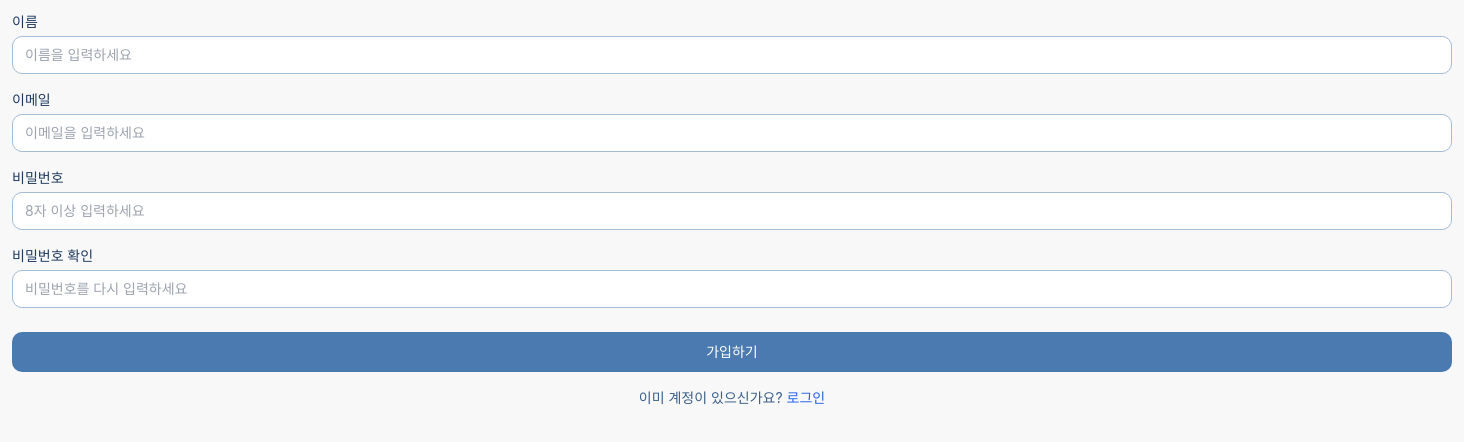
Test: SignupForm › 유효성 검증 › 비밀번호와 확인 비밀번호가 다를 경우 오류 메시지를 표시한다
The image size is (1464, 442).
Type "홍길동" into the field labelled "이름" at (732, 55), box [12, 36, 1452, 74]
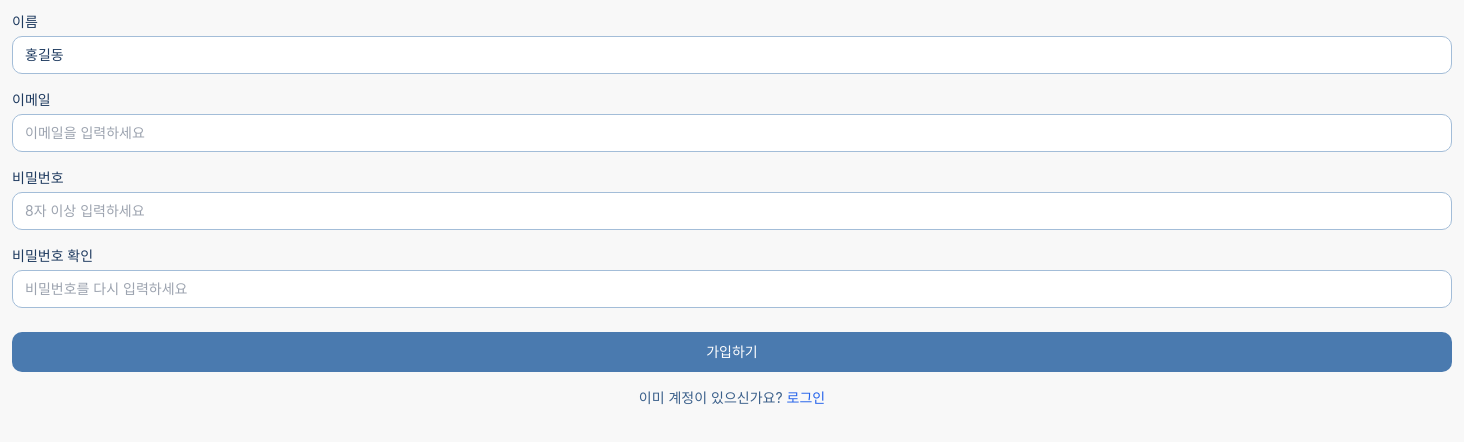
Type "test@test.com" into the field labelled "이메일" at (732, 133), box [12, 114, 1452, 152]
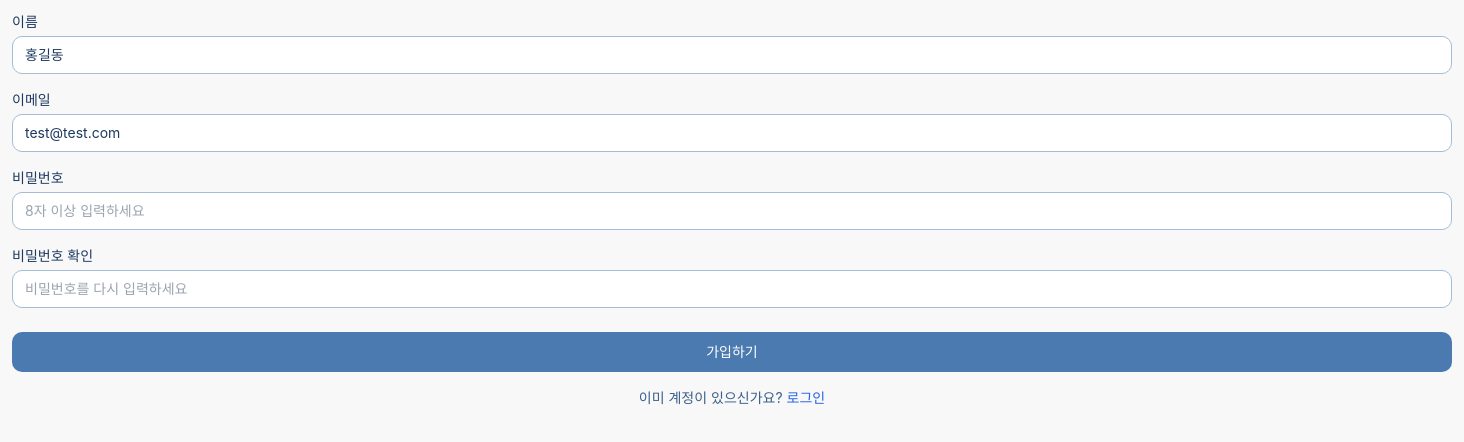
Type "password123" into the password field labelled "비밀번호" at (732, 211), box [12, 192, 1452, 230]
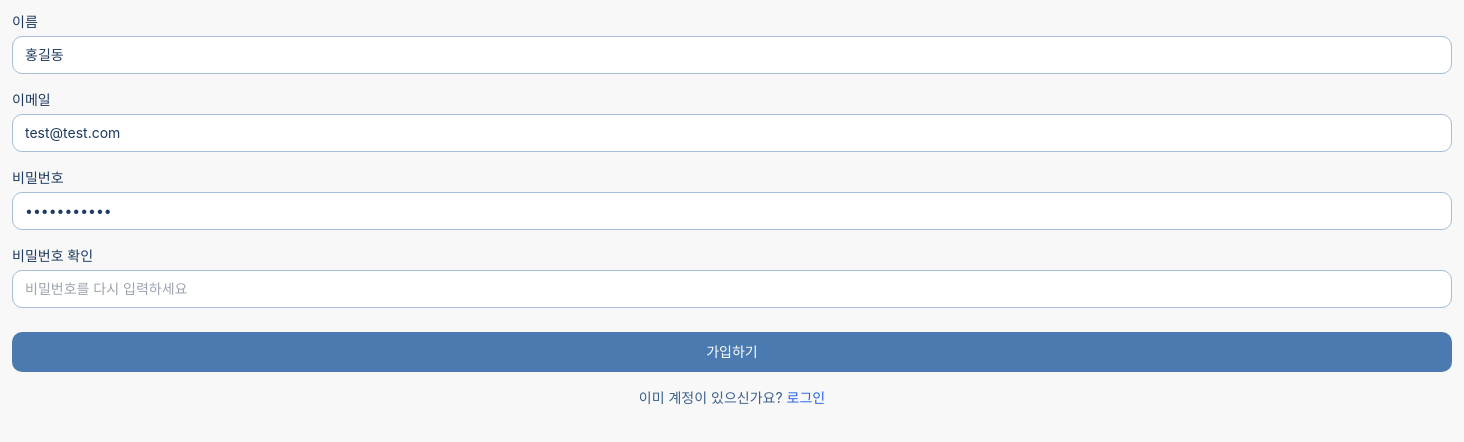
Type "different123" into the password field labelled "비밀번호 확인" at (732, 289), box [12, 270, 1452, 308]
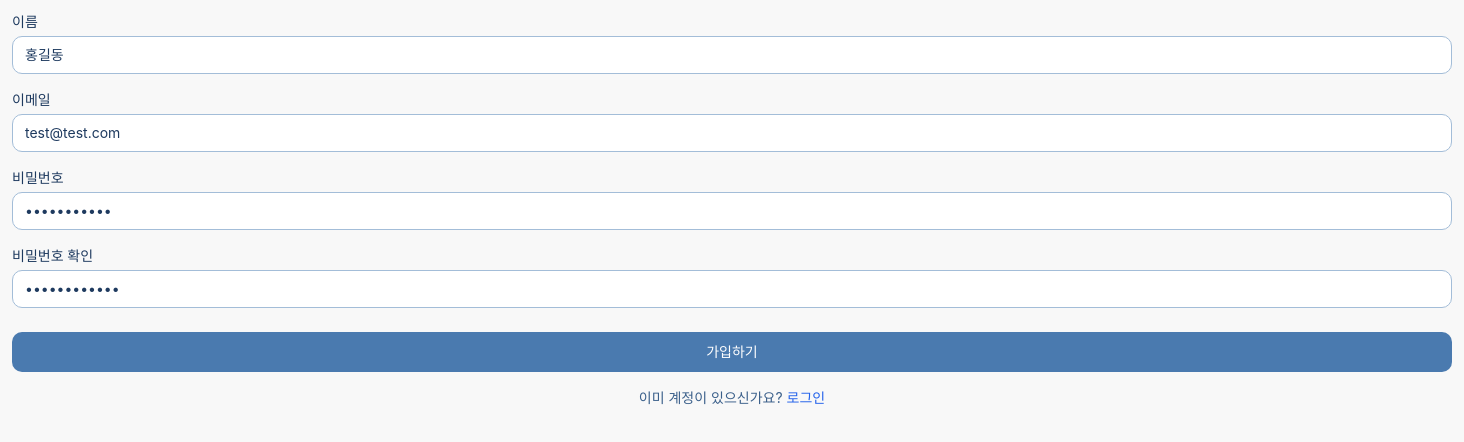
Click the button "가입하기" at (732, 352), box [12, 332, 1452, 372]
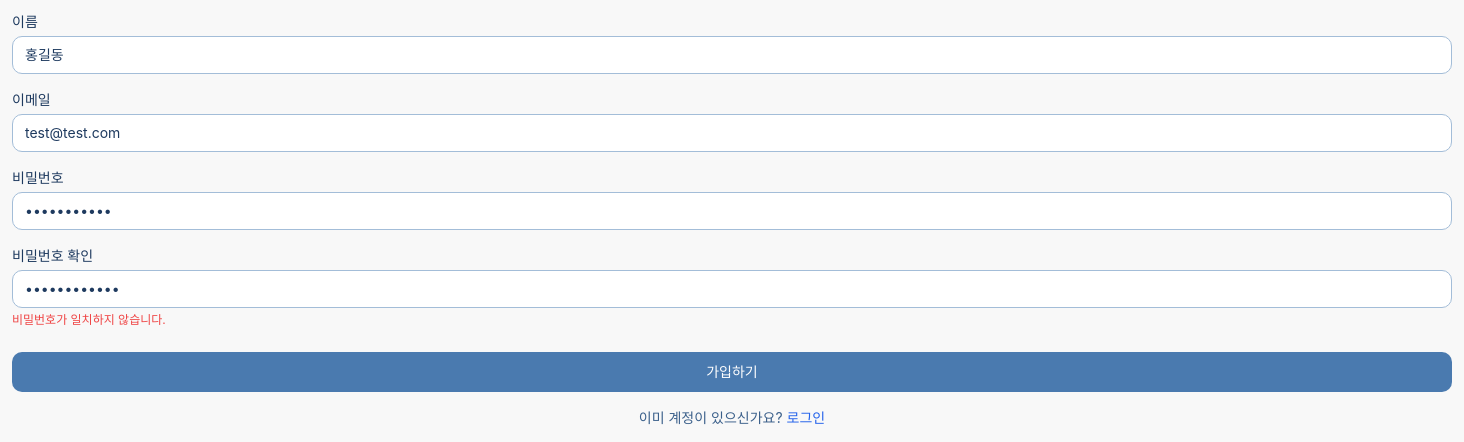
Expected: the text "비밀번호가 일치하지 않습니다." is shown, [12, 312, 166, 327]
